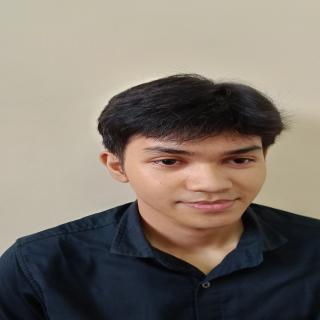Netral: (125, 128, 272, 236)
